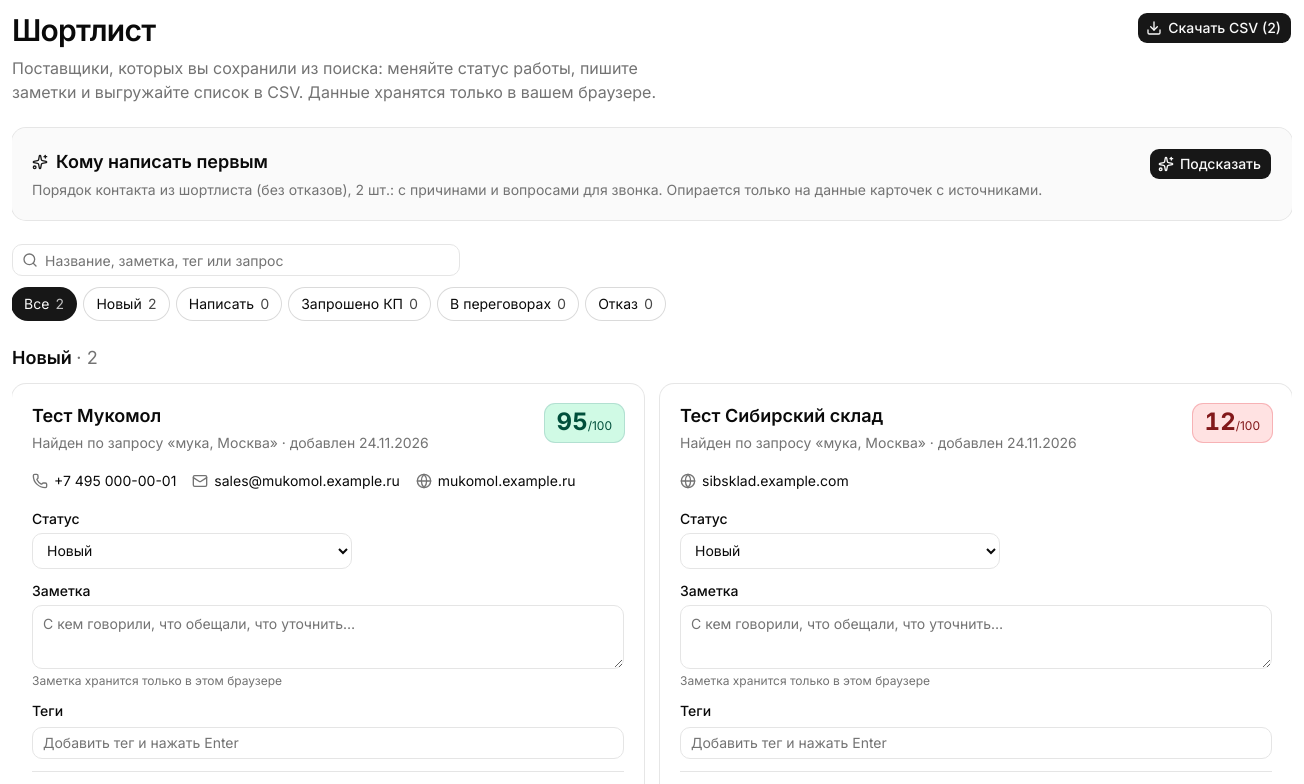
Test case: страница шортлиста › фильтр по тексту скрывает остальных
The image size is (1304, 784).
Type "несуществующий" into the search field named "Поиск по шортлисту" at {"x": 236, "y": 260}, box [12,244,460,276]
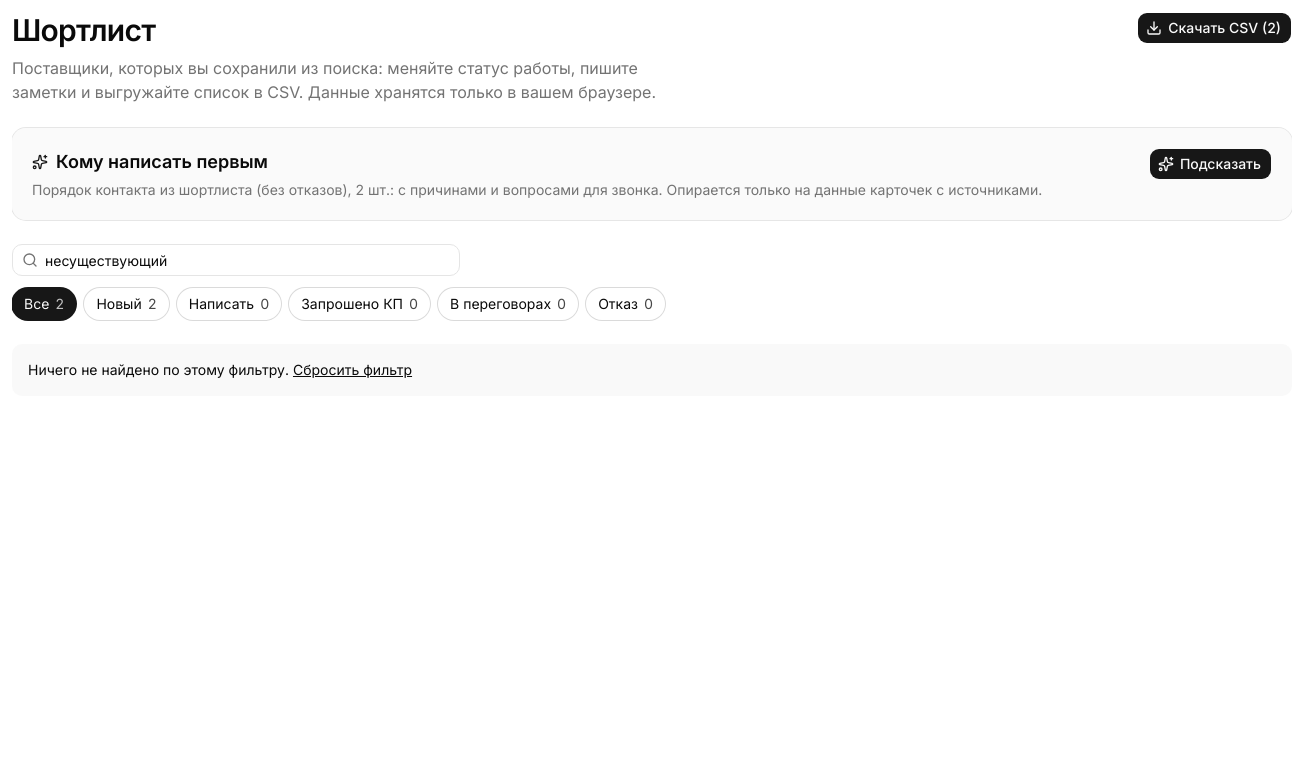
expect the text "Ничего не найдено по этому фильтру. Сбросить фильтр" is shown: met, box [12,344,1292,396]
